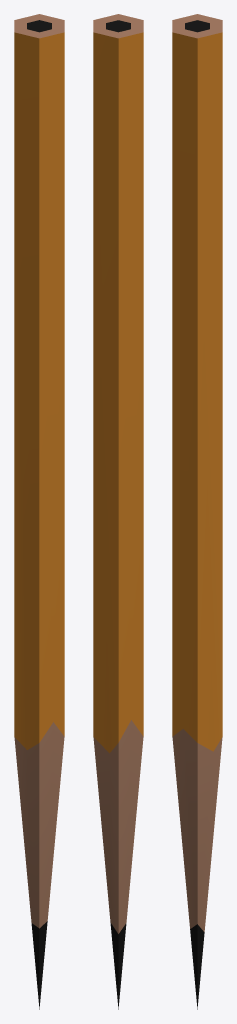
The model's file is pencil.obj.
3 views of the same model, side by side, from view 1: azimuth 90°, elevation 25°; view 2: azimuth 210°, elevation 25°; view 3: azimuth 270°, elevation 25° (orthographic).
Visible parts, largest first — view 1: pencil_pencil_blinn1SG, pencil_pencil_lambert2SG, pencil_pencil_blinn2SG; view 2: pencil_pencil_blinn1SG, pencil_pencil_lambert2SG, pencil_pencil_blinn2SG; view 3: pencil_pencil_blinn1SG, pencil_pencil_lambert2SG, pencil_pencil_blinn2SG.
Boxes of the visible parts, x1,y1,x2,y2 form: pencil_pencil_blinn1SG: [14, 32, 64, 749]; pencil_pencil_lambert2SG: [14, 14, 64, 928]; pencil_pencil_blinn2SG: [27, 20, 51, 1009]; pencil_pencil_blinn1SG: [93, 32, 143, 753]; pencil_pencil_lambert2SG: [93, 14, 143, 933]; pencil_pencil_blinn2SG: [106, 20, 130, 1009]; pencil_pencil_blinn1SG: [172, 32, 222, 751]; pencil_pencil_lambert2SG: [172, 14, 222, 931]; pencil_pencil_blinn2SG: [185, 20, 209, 1009].
Size of the model in its own units: 0.0279 by 0.5228 by 0.0241.
